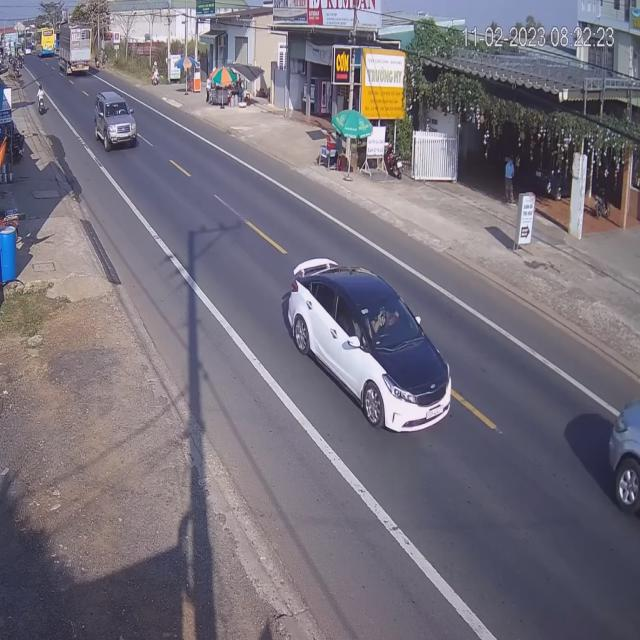car: (290, 261, 460, 433), (608, 378, 640, 523), (93, 91, 137, 153)
truck: (59, 23, 91, 73)
